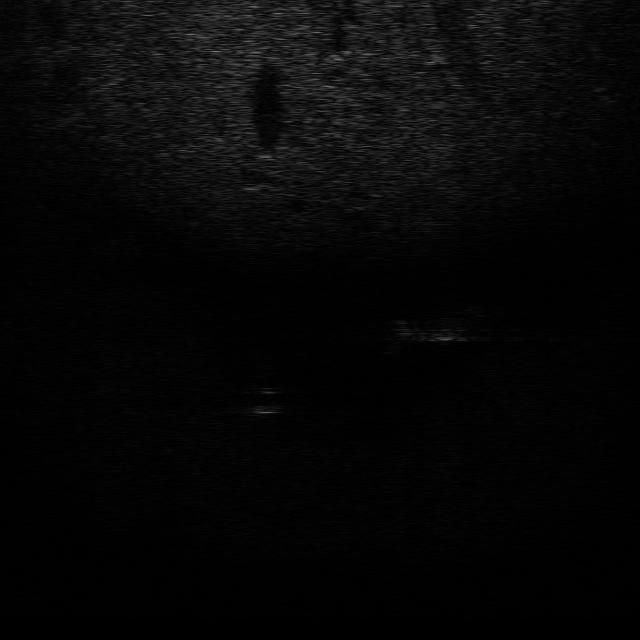ball: (244, 382, 288, 418)
human body: (383, 304, 492, 354)
